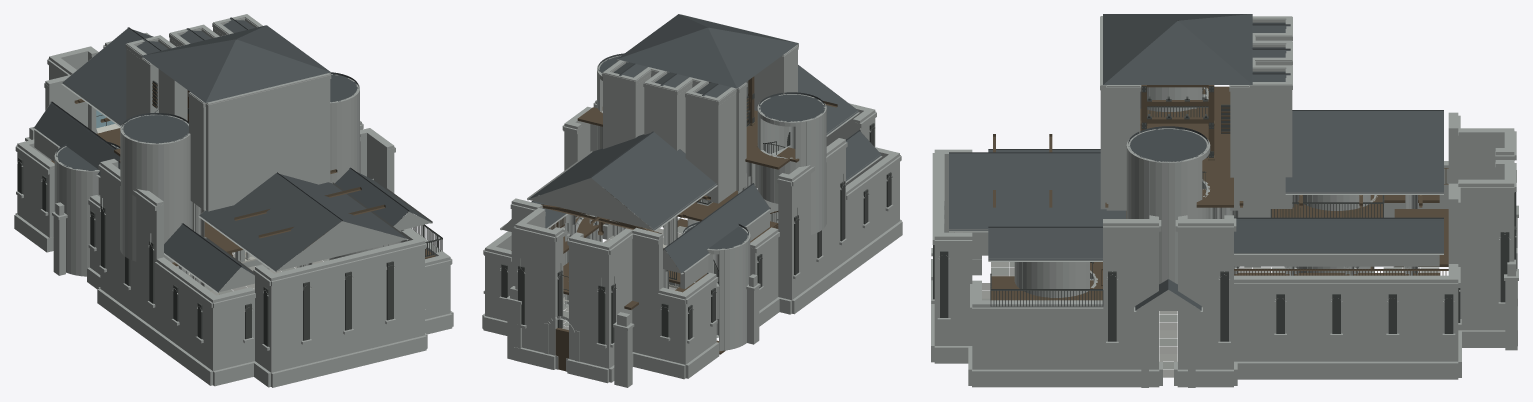
Rendered from st-brendans-treatment.glb.
3 views of the same model, side by side, from view 1: azimuth 30°, elevation 25°; view 2: azimuth 150°, elevation 25°; view 3: azimuth 270°, elevation 25° (orthographic). The views are drawn at different scales.
Parts seen in each view (by area): view 1: brendan_church_treated; view 2: brendan_church_treated; view 3: brendan_church_treated.
Boxes of the visible parts, x1=… form: brendan_church_treated: x1=14, y1=14, x2=453, y2=387; brendan_church_treated: x1=482, y1=14, x2=902, y2=387; brendan_church_treated: x1=931, y1=14, x2=1518, y2=387.
Size of the model in its own units: 17.92 by 18.42 by 31.45.
